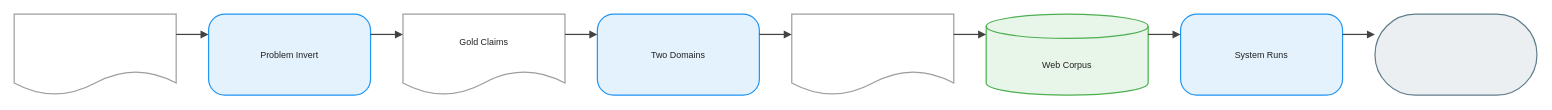
This 1552x110 diagram has some shape labels left out. The box of each missing label's shape, as (x1, y1, x2, y2) in pixels:
100 Tasks: (791, 13, 954, 95)
Claim F1: (1374, 13, 1537, 95)
DR Query: (13, 13, 176, 95)
